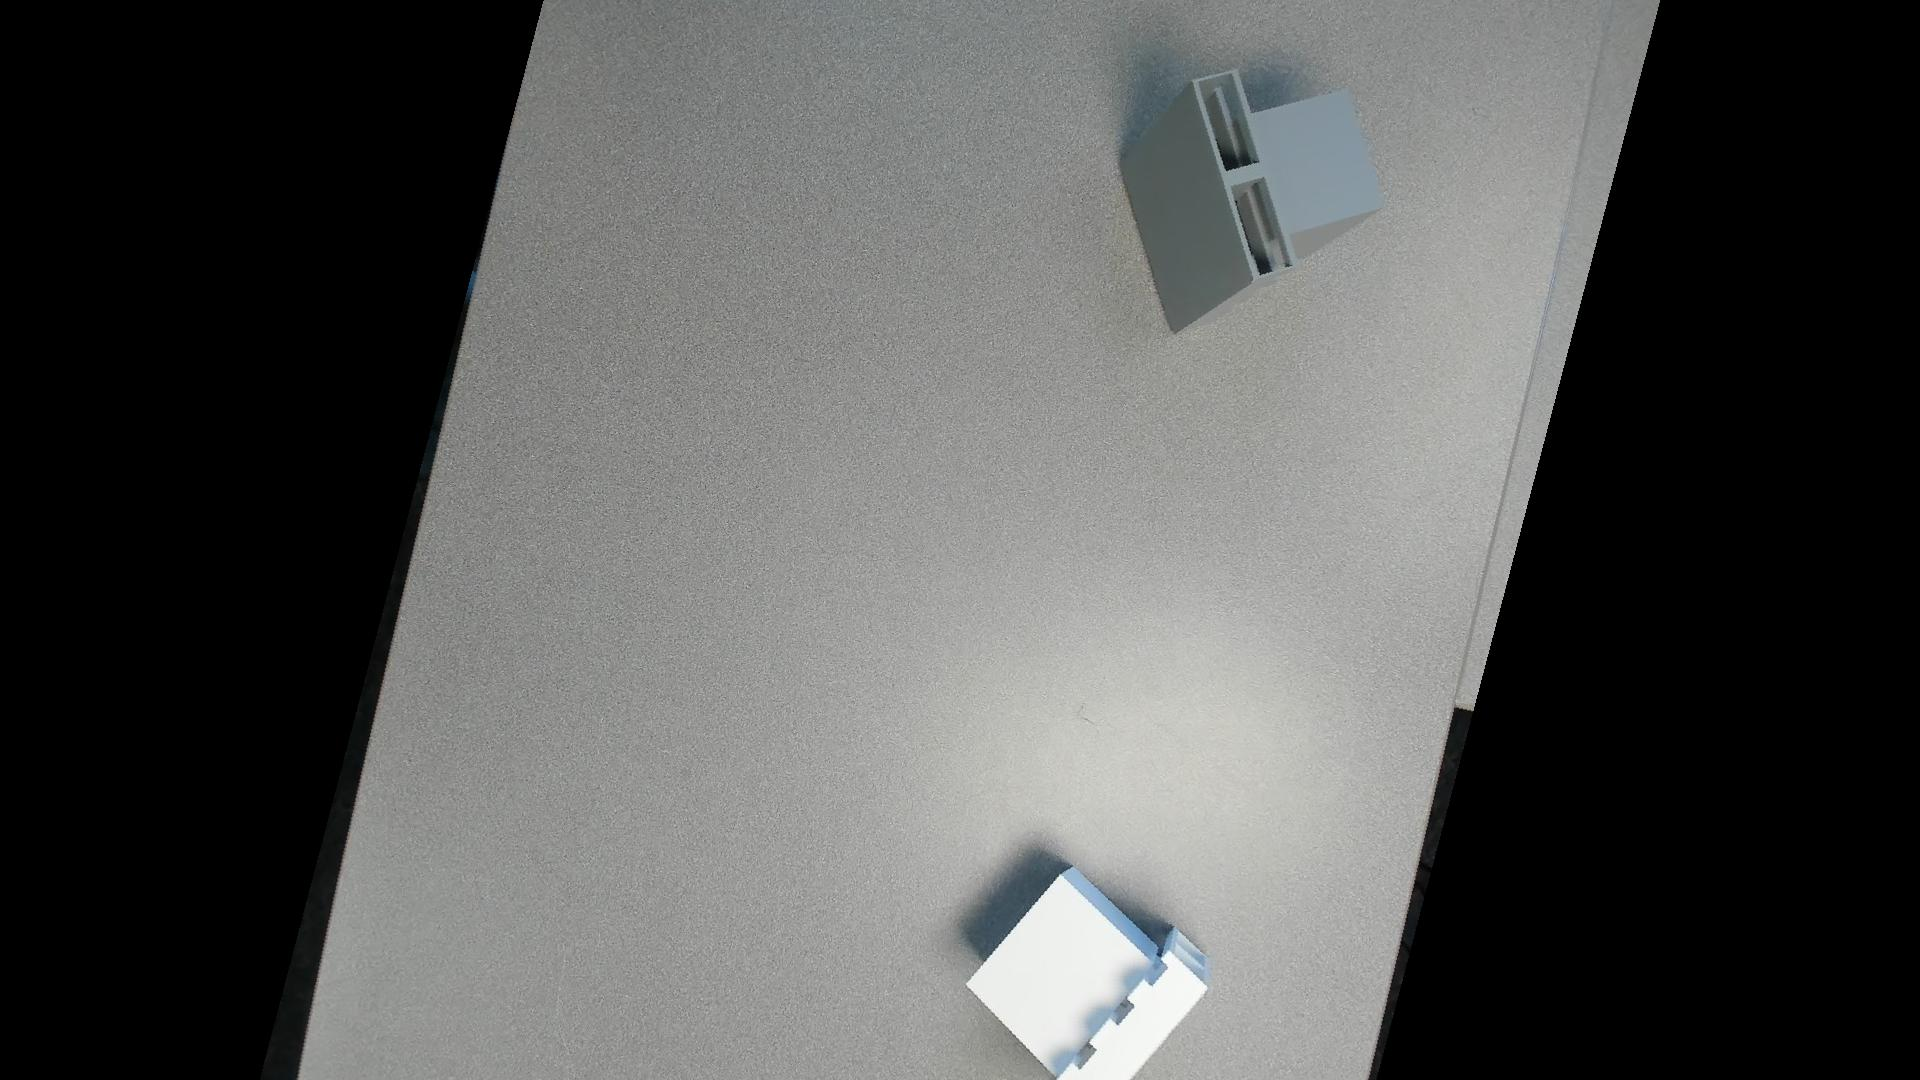grey pallet: (1108, 67, 1385, 340)
white pallet: (956, 848, 1222, 1080)
